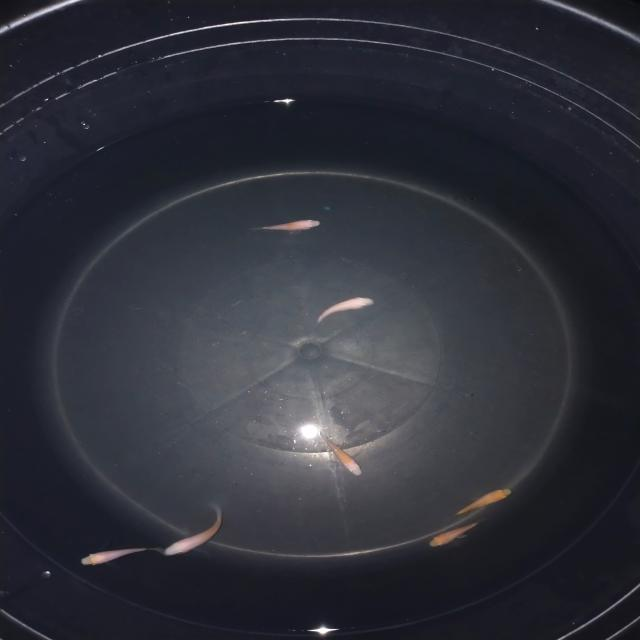nila: (160, 499, 227, 563), (314, 430, 370, 480), (310, 293, 378, 332), (448, 482, 518, 518), (74, 543, 162, 570), (421, 518, 485, 552), (245, 214, 325, 237)
